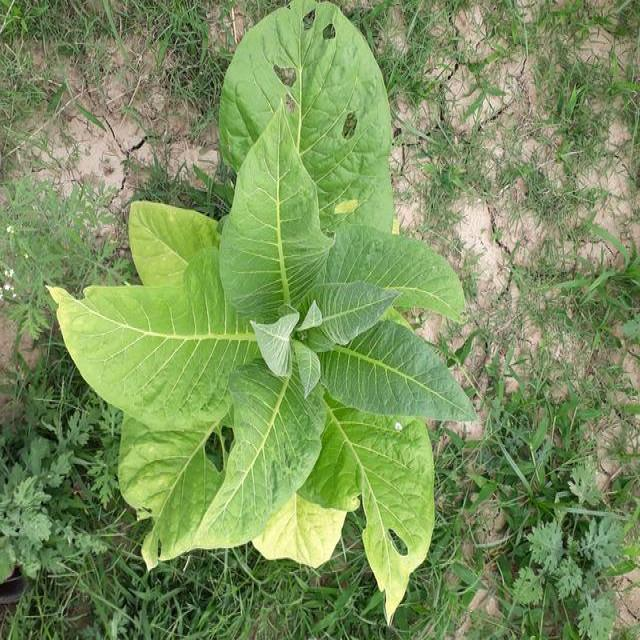crop: (43, 7, 492, 607)
